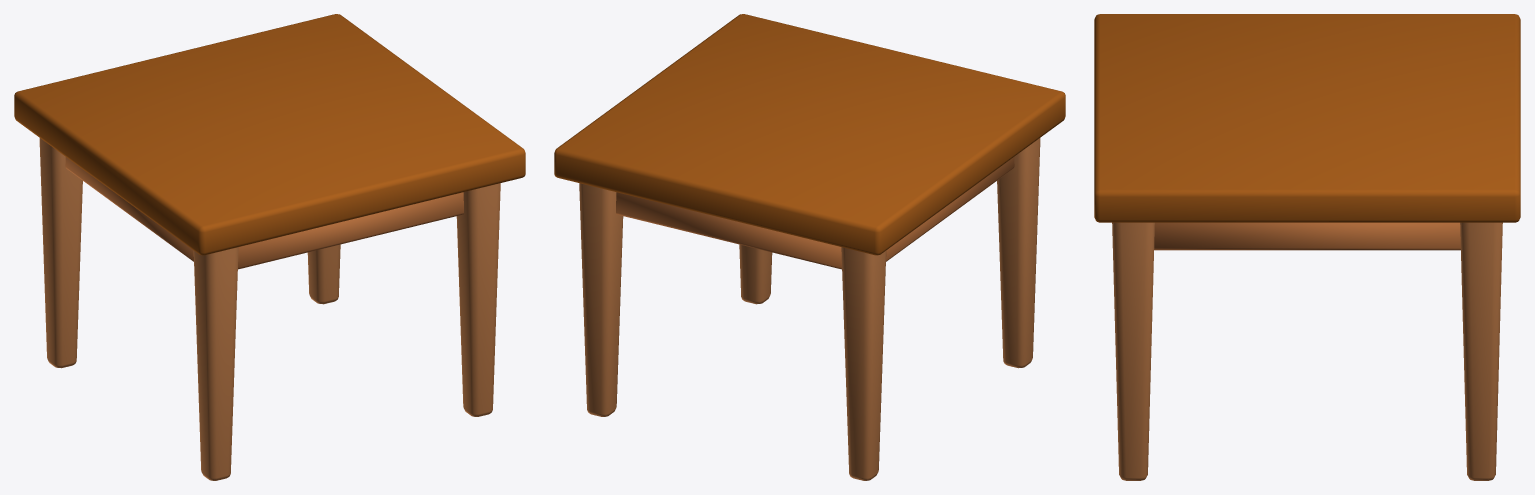
The model's file is Square_Table.glb.
3 views of the same model, side by side, from view 1: azimuth 30°, elevation 25°; view 2: azimuth 150°, elevation 25°; view 3: azimuth 270°, elevation 25° (orthographic). The views are drawn at different scales.
Parts seen in each view (by area): view 1: Square Table; view 2: Square Table; view 3: Square Table.
Boxes of the visible parts, x1,y1,x2,y2 form: Square Table: (14, 14, 525, 480); Square Table: (554, 14, 1065, 480); Square Table: (1094, 14, 1520, 480).
Size of the model in its own units: 0.85 by 0.668 by 0.85.
Materials: 1 (1 with a texture image).
